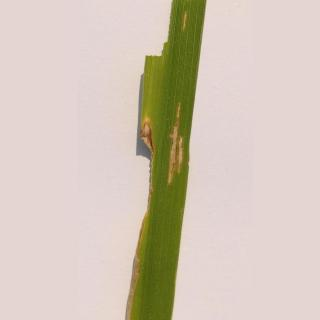Hawar-Daun: (165, 99, 191, 190), (128, 238, 152, 316), (138, 113, 158, 185), (176, 4, 197, 36)
